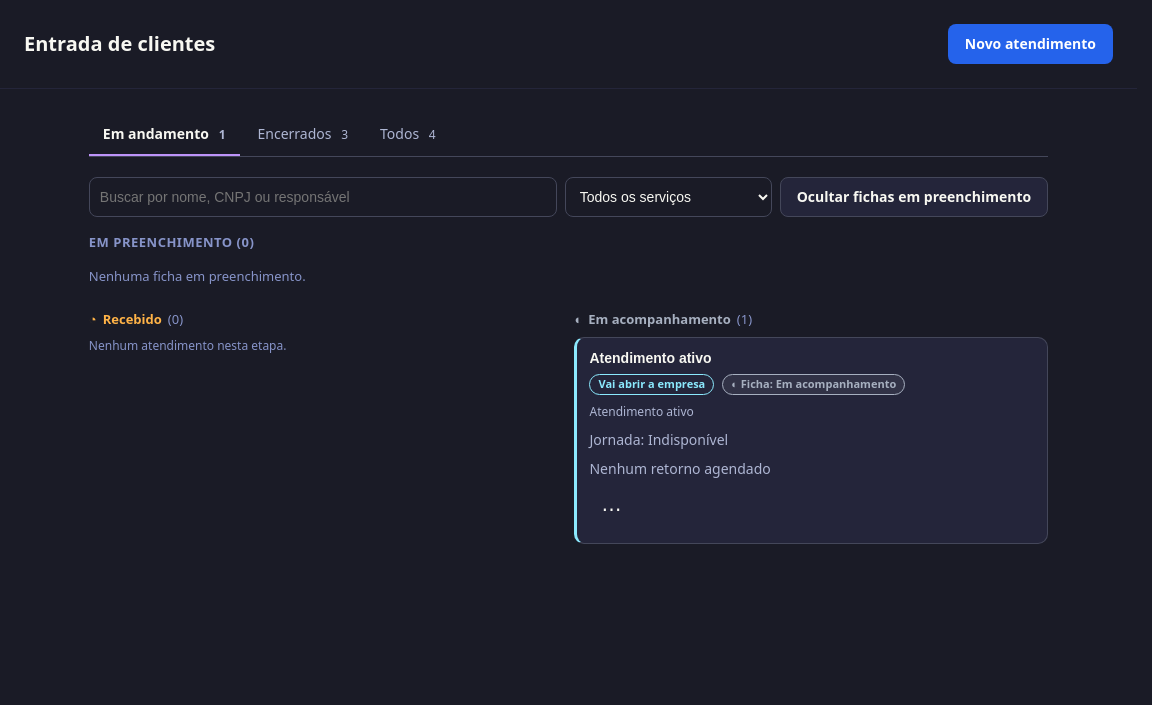
lista inicia nos atendimentos ativos e conserva avulsos, desistências e carteira no histórico
Check: the button "Atendimento ativo" is shown, box x1=590 y1=350 x2=1035 y2=366
Check: the button "Avulso entregue" is not shown
Step 1. Click the button "Encerrados 3" → click(303, 134), box x1=244 y1=113 x2=362 y2=156
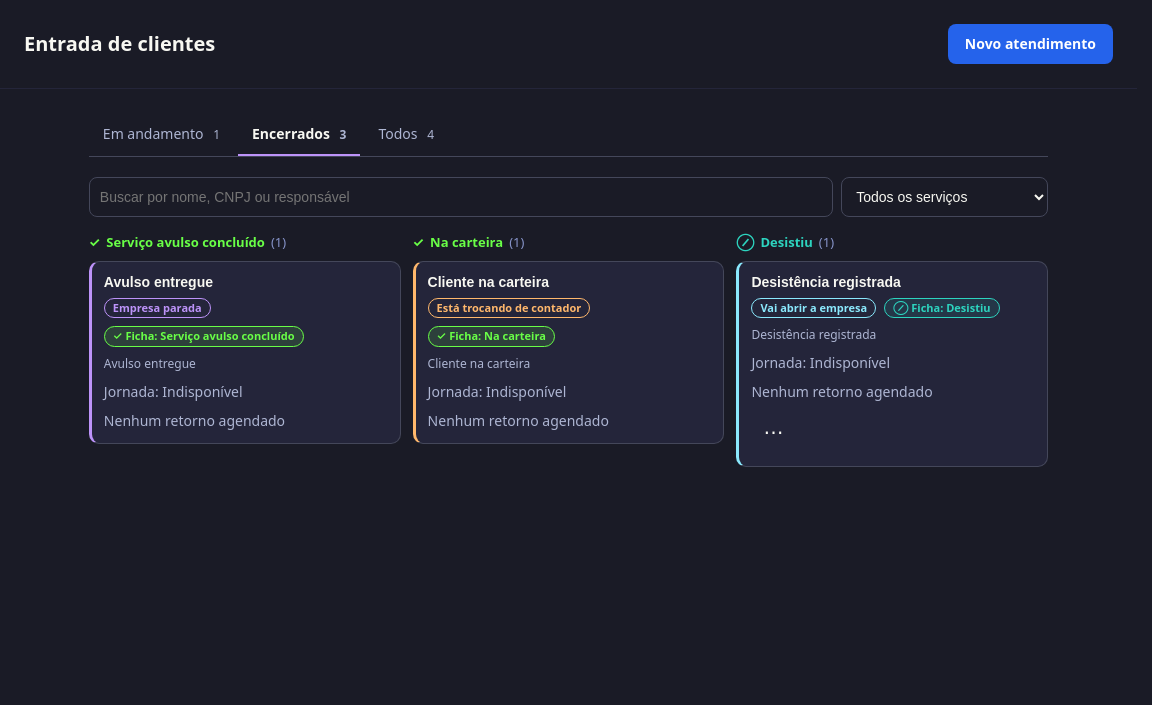
Check: the button "Avulso entregue" is shown, box x1=104 y1=274 x2=388 y2=290
Check: the button "Cliente na carteira" is shown, box x1=428 y1=274 x2=711 y2=290
Check: the button "Desistência registrada" is shown, box x1=751 y1=274 x2=1035 y2=290
Step 2. Click the button "Todos 4" → click(406, 134), box x1=364 y1=113 x2=448 y2=156
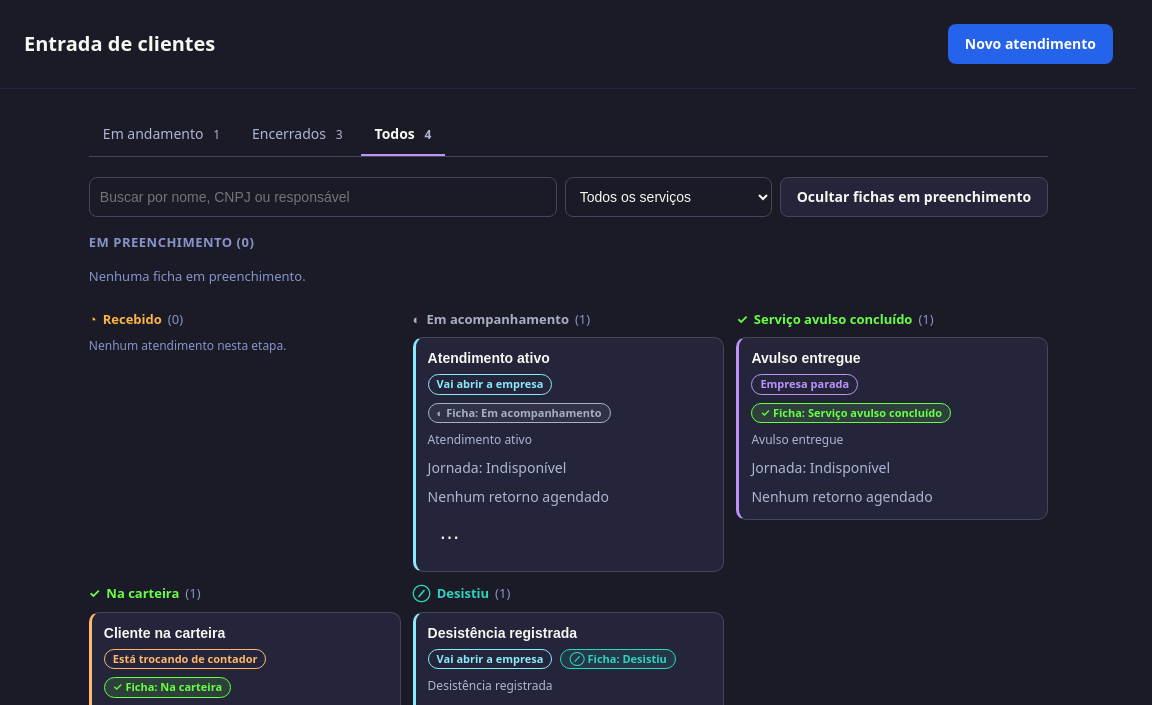
Check: the button "Atendimento ativo" is shown, box x1=428 y1=350 x2=711 y2=366
